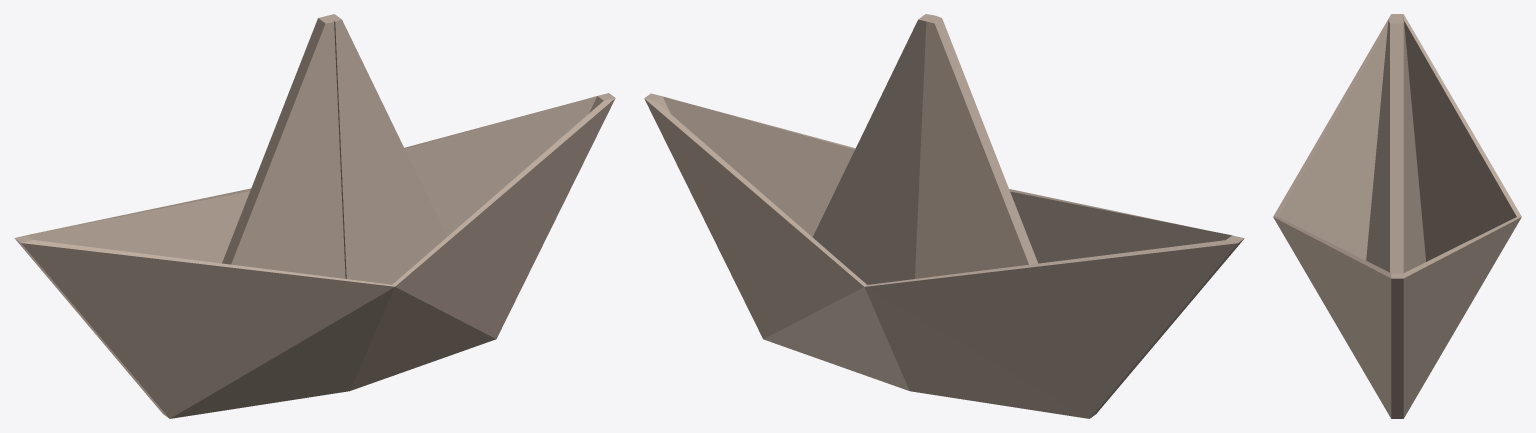
The model's file is Papership.fbx.
3 views of the same model, side by side, from view 1: azimuth 30°, elevation 25°; view 2: azimuth 150°, elevation 25°; view 3: azimuth 270°, elevation 25° (orthographic). The views are drawn at different scales.
Visible parts, largest first — view 1: Papership; view 2: Papership; view 3: Papership.
Boxes of the visible parts, left/top/right/bottom form: Papership: left=14, top=14, right=615, bottom=418; Papership: left=644, top=14, right=1244, bottom=418; Papership: left=1273, top=14, right=1521, bottom=418.
Size of the model in its own units: 15 by 8.63 by 5.96.
